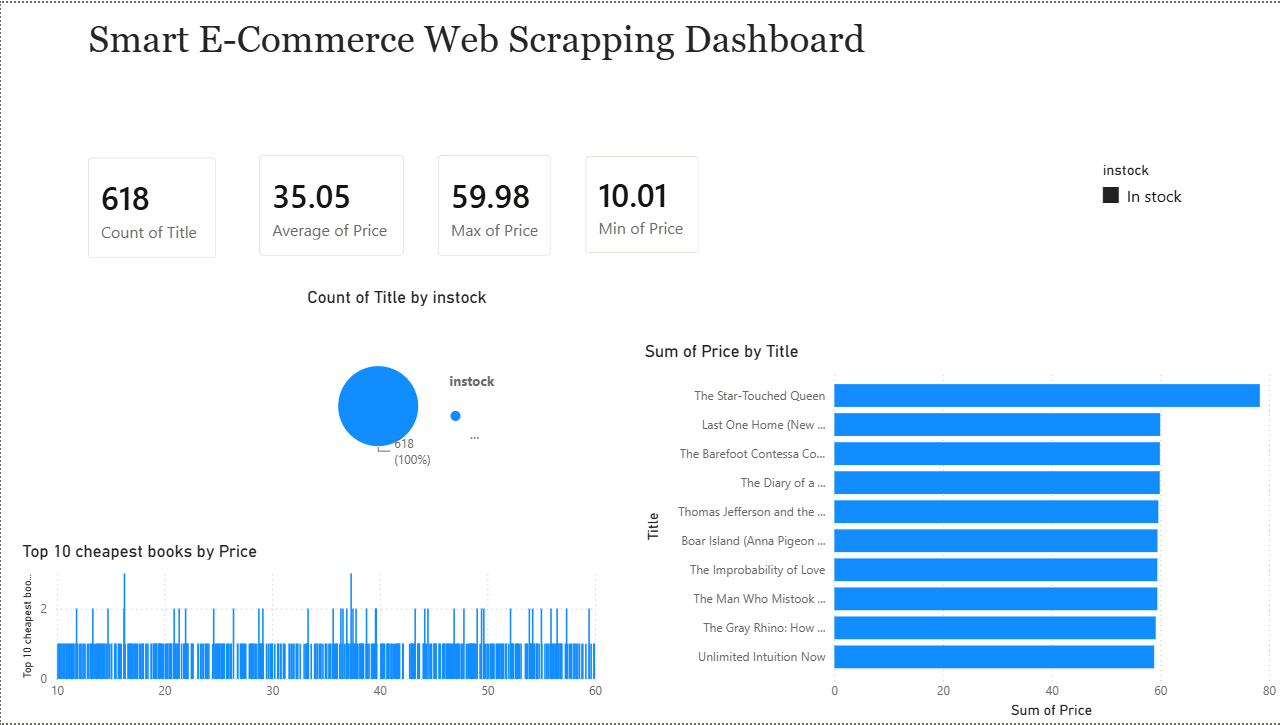

What the dashboard file says about the page in this screenshot:
{"tool":"powerbi","page":{"name":"Page 1","canvas":[1280,720],"ordinal":0},"visuals":[{"type":"cardVisual","fields":{"Data":["CountNonNull(cleaned_books_dataset.Title)"]},"box":[475,371.2,300,300],"z":0},{"type":"cardVisual","fields":{"Data":["Avg(cleaned_books_dataset.Price)"]},"box":[175,371.2,300,300],"z":1000},{"type":"cardVisual","fields":{"Data":["Max(cleaned_books_dataset.Price)"]},"box":[142.5,15,363.8,300],"z":2000},{"type":"cardVisual","fields":{"Data":["Min(cleaned_books_dataset.Price)"]},"box":[490,15,300,300],"z":3000},{"type":"clusteredBarChart","fields":{"Category":["cleaned_books_dataset.Title"],"Y":["Sum(cleaned_books_dataset.Price)"]},"box":[808.8,33.8,417.5,592.5],"z":4000},{"type":"pieChart","fields":{"Category":["cleaned_books_dataset.instock"],"Y":["CountNonNull(cleaned_books_dataset.Title)"]},"box":[0,371,300,300],"z":5000},{"type":"clusteredColumnChart","fields":{"Category":["cleaned_books_dataset.Price"],"Y":["CountNonNull(cleaned_books_dataset.Title)"]},"box":[18.6,100,686.4,300],"z":6000},{"type":"slicer","fields":{"Values":["cleaned_books_dataset.instock"]},"box":[838.8,347.5,338.8,372.5],"z":7000}]}

Visuals, with their boxes in screenshot pixels (x1, y1, x2, y2), scaled from the page's 1280x720 canvas onto the 1281x725 screenshot:
cardVisual - CountNonNull(cleaned_books_dataset.Title): BBox(475, 374, 776, 676)
cardVisual - Avg(cleaned_books_dataset.Price): BBox(175, 374, 475, 676)
cardVisual - Max(cleaned_books_dataset.Price): BBox(143, 15, 507, 317)
cardVisual - Min(cleaned_books_dataset.Price): BBox(490, 15, 791, 317)
clusteredBarChart - cleaned_books_dataset.Title x Sum(cleaned_books_dataset.Price): BBox(809, 34, 1227, 631)
pieChart - cleaned_books_dataset.instock x CountNonNull(cleaned_books_dataset.Title): BBox(0, 374, 300, 676)
clusteredColumnChart - cleaned_books_dataset.Price x CountNonNull(cleaned_books_dataset.Title): BBox(19, 101, 706, 403)
slicer - cleaned_books_dataset.instock: BBox(839, 350, 1179, 724)
